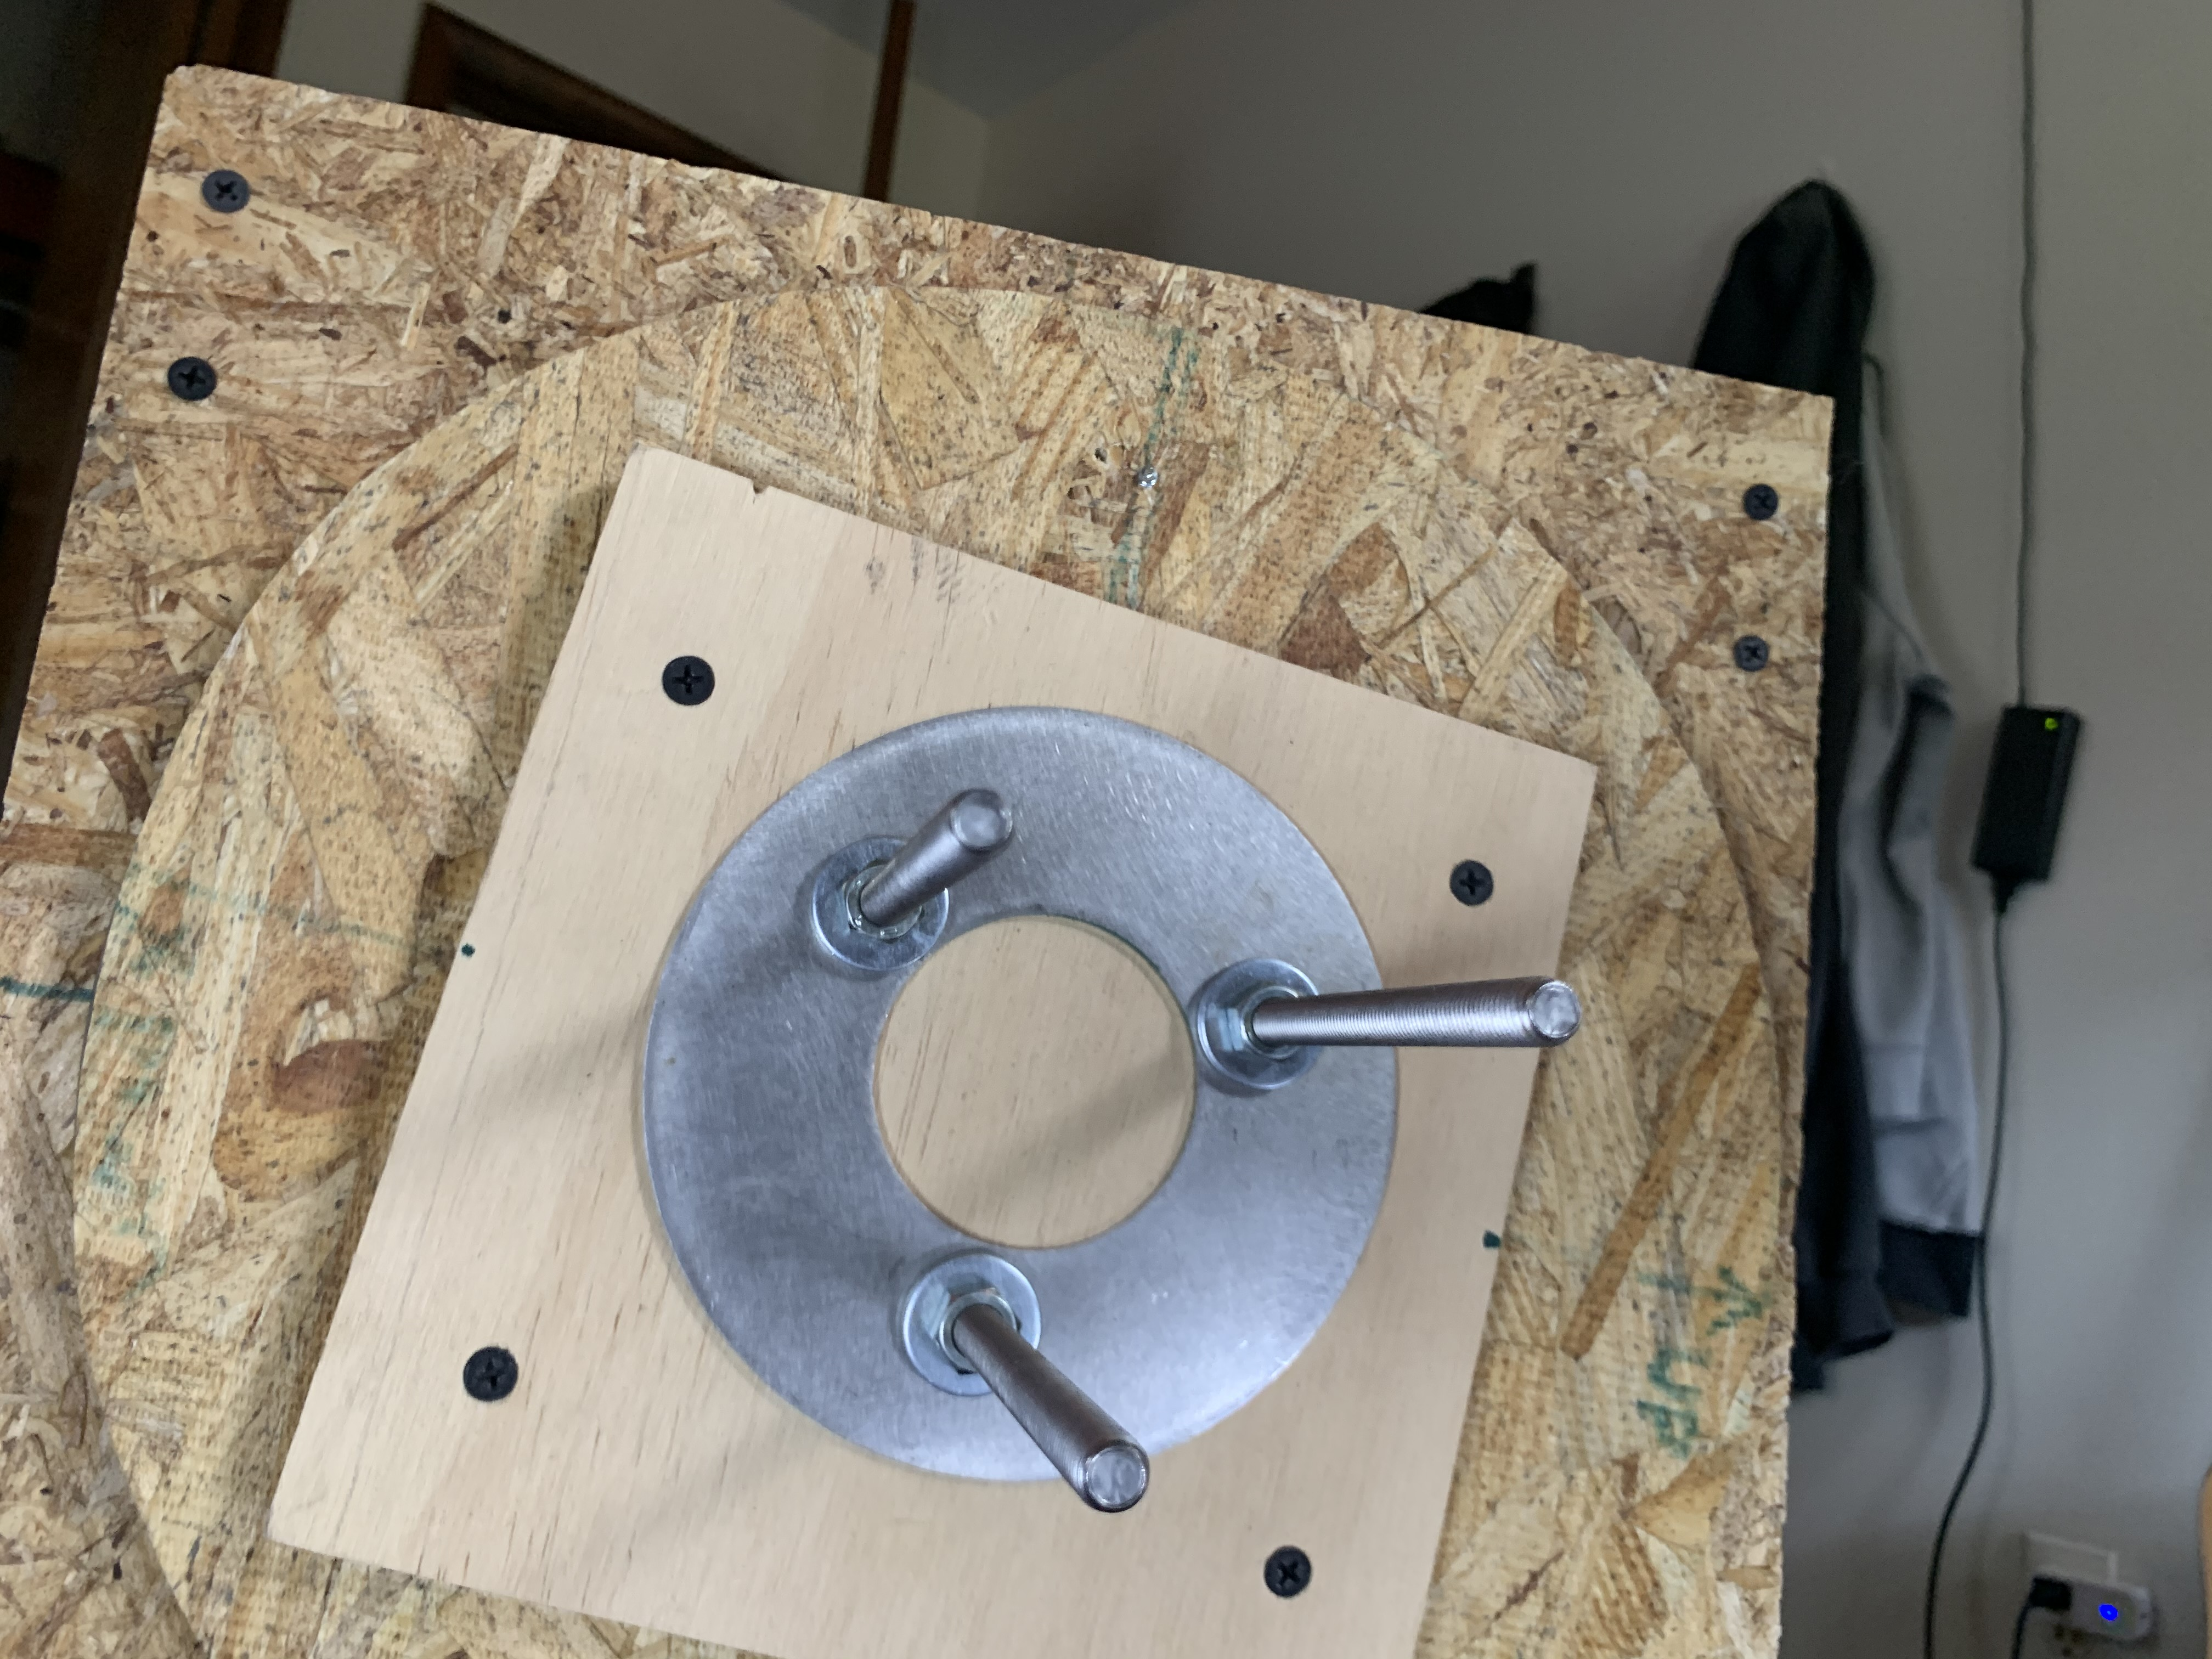bolt: (897, 1251, 1043, 1403), (803, 838, 951, 965), (1191, 958, 1325, 1096)
